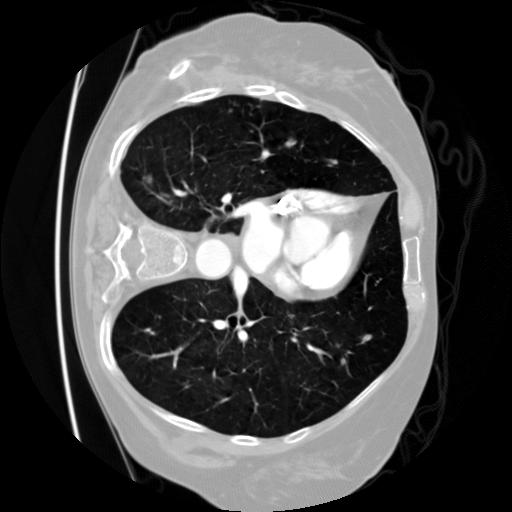nodule: (361, 330, 375, 344)
